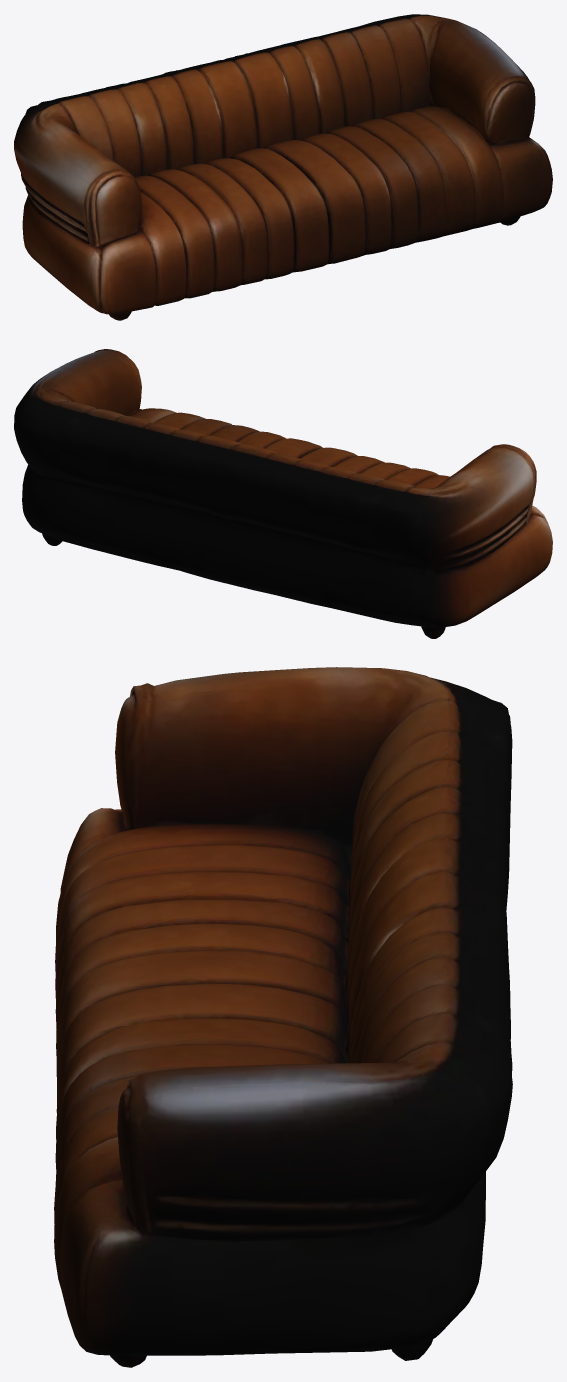
3 views of the same model, one above another, from view 1: azimuth 30°, elevation 25°; view 2: azimuth 150°, elevation 25°; view 3: azimuth 270°, elevation 25° (orthographic). The views are drawn at different scales.
Parts seen in each view (by area): view 1: geometry_0; view 2: geometry_0; view 3: geometry_0.
Boxes of the visible parts, x1=… form: geometry_0: x1=14, y1=14, x2=552, y2=320; geometry_0: x1=14, y1=349, x2=552, y2=638; geometry_0: x1=54, y1=667, x2=512, y2=1367.
Size of the model in its own units: 0.9997 by 0.3161 by 0.4278.
Materials: 1 (1 with a texture image).
